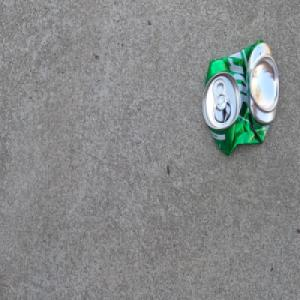SodaCan: (201, 37, 280, 157)
